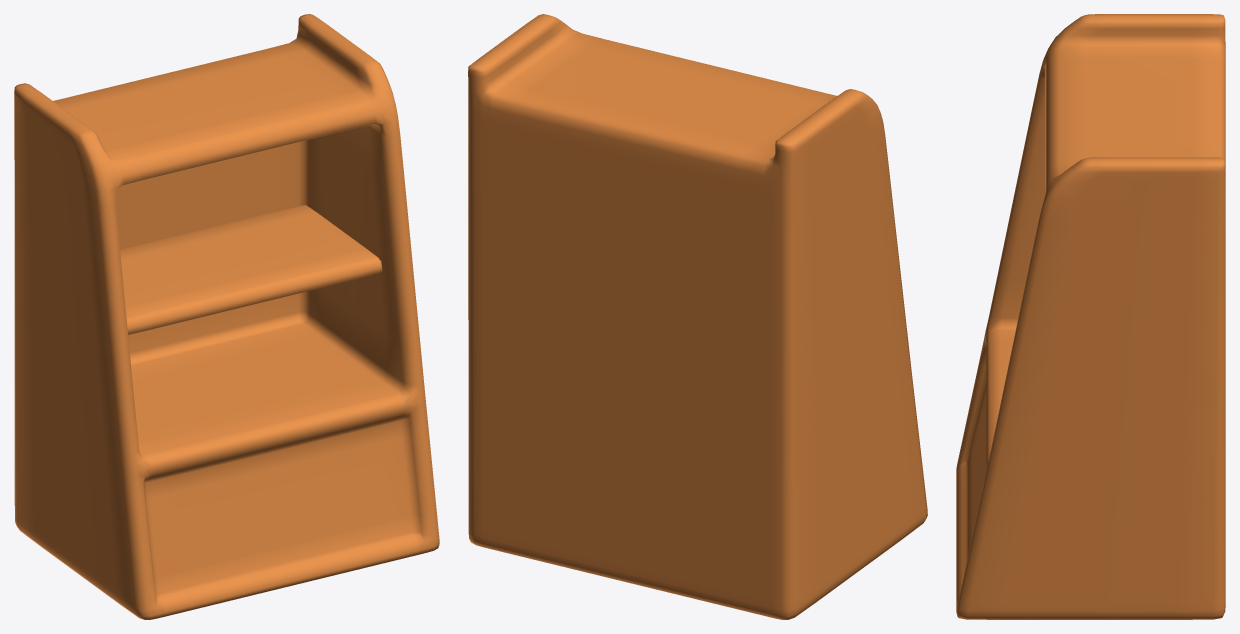
Rendered from DeliveryCounter.fbx.
The picture shows the model from 3 angles, left to right: view 1: azimuth 30°, elevation 25°; view 2: azimuth 150°, elevation 25°; view 3: azimuth 270°, elevation 25°; orthographic projection. The views are drawn at different scales.
Visible parts, largest first — view 1: Delivery.Counter; view 2: Delivery.Counter; view 3: Delivery.Counter.
Part boxes in pixels (<box>): Delivery.Counter: <box>14,14,439,619</box>; Delivery.Counter: <box>468,14,927,619</box>; Delivery.Counter: <box>956,14,1225,619</box>.
Size of the model in its own units: 59.19 by 83.03 by 44.15.
